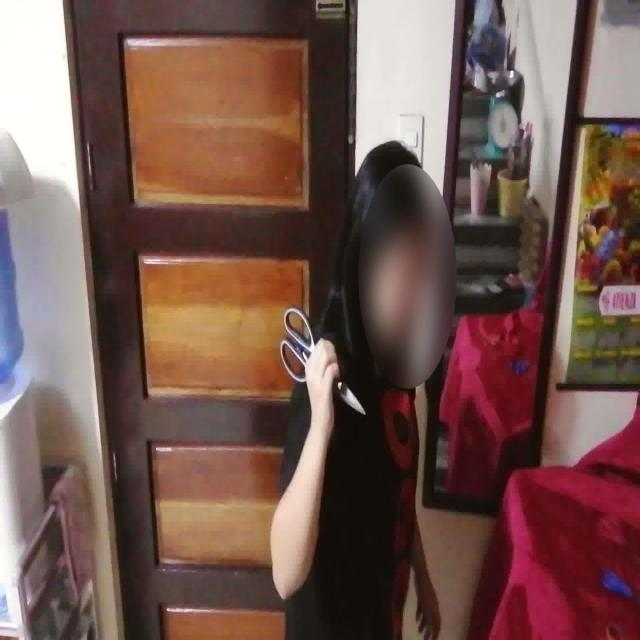scissor: (279, 304, 366, 416)
